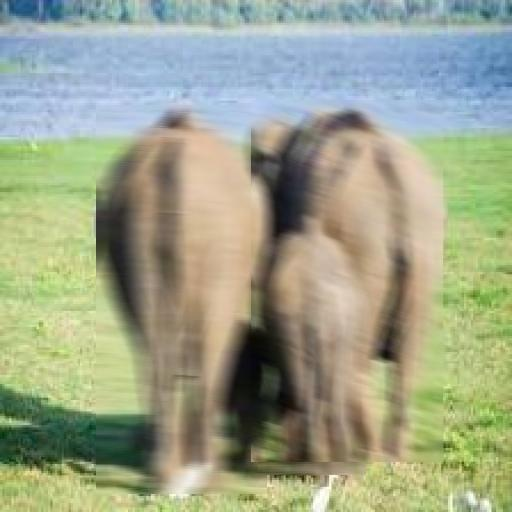Elephant: (252, 100, 444, 462), (96, 105, 267, 494), (258, 215, 366, 475)
